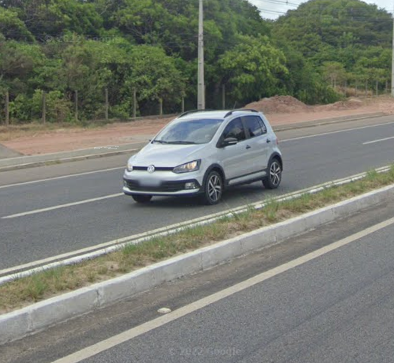car: (120, 101, 284, 205)
